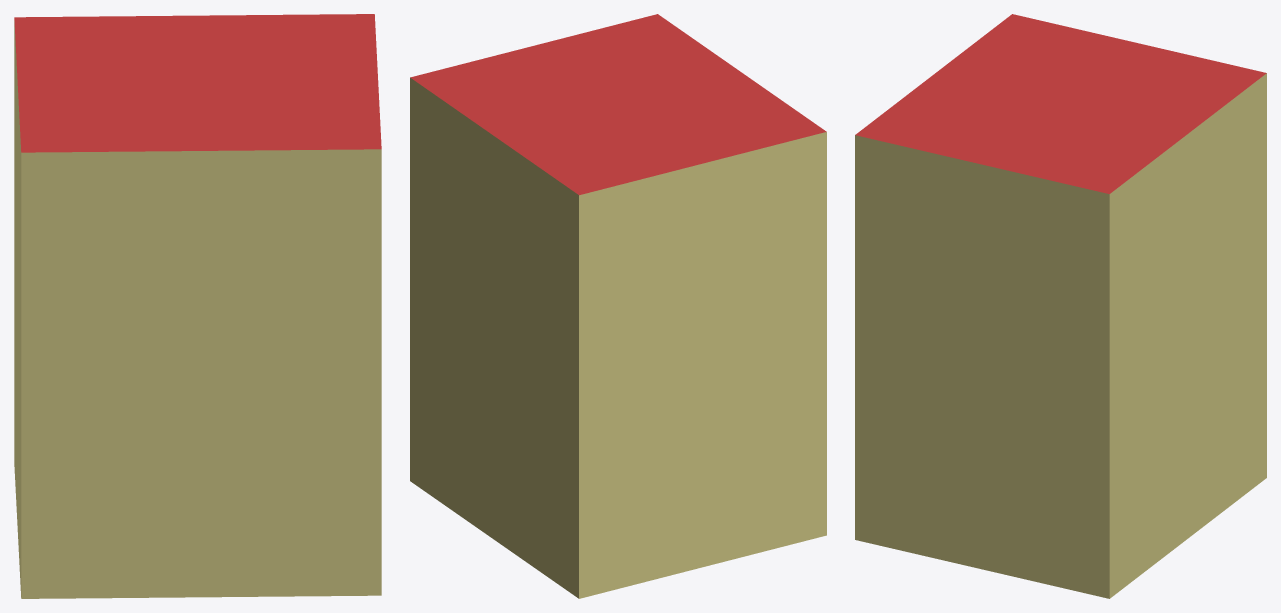
3 views of the same model, side by side, from view 1: azimuth 30°, elevation 25°; view 2: azimuth 150°, elevation 25°; view 3: azimuth 270°, elevation 25° (orthographic). The views are drawn at different scales.
Bounding box in the file's own units: 7.81 × 7.55 × 8.18.
